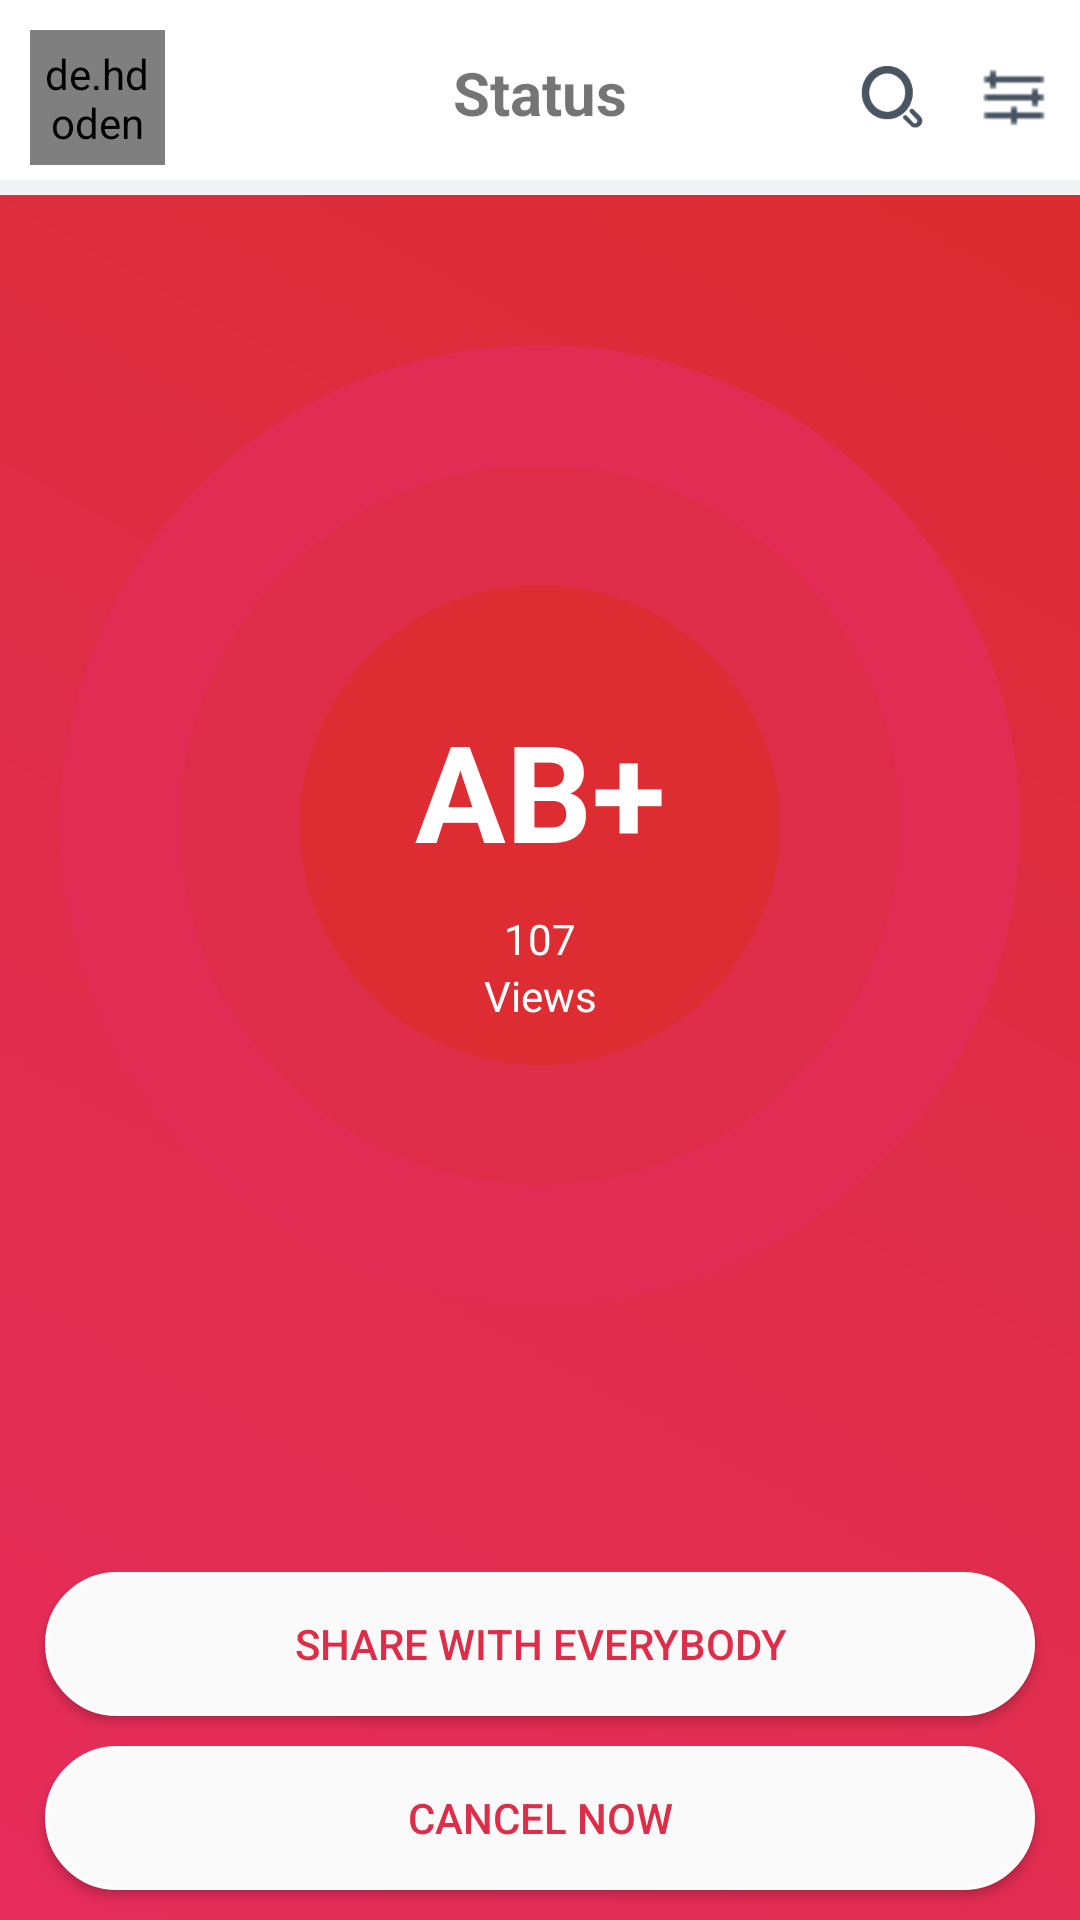

Icon bounding boxes for this 1080px×1920px phone screenshot, format BBox(x1, y1, x2, y2):
search: BBox(861, 66, 923, 128)
settings: BBox(983, 70, 1045, 125)
